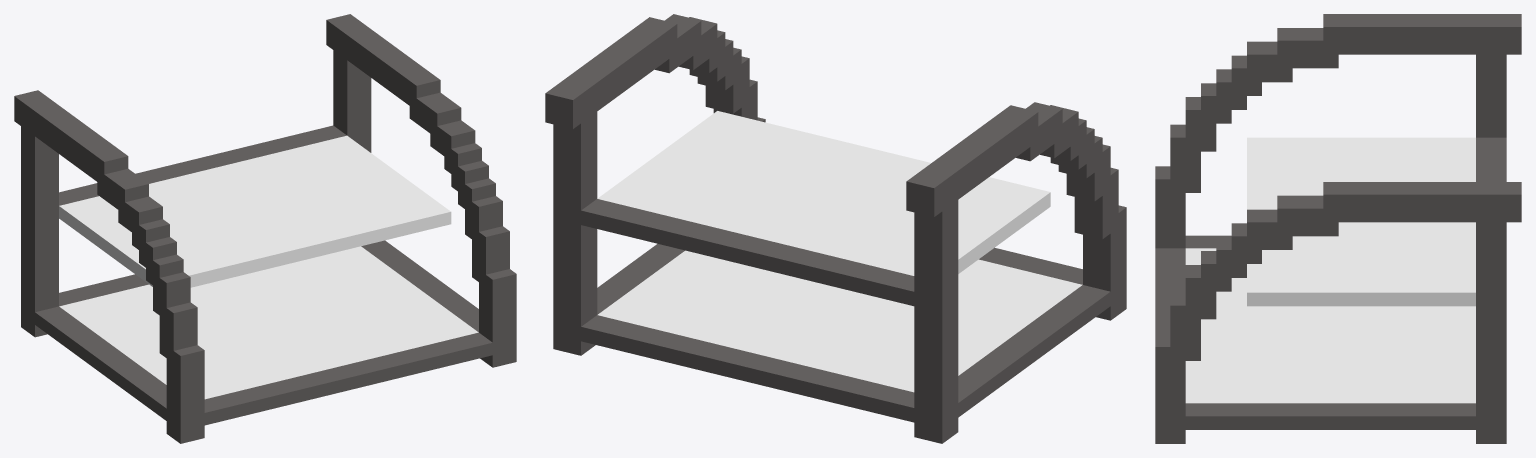
File: Bread Display strand_Empty.obj
3 views of the same model, side by side, from view 1: azimuth 30°, elevation 25°; view 2: azimuth 150°, elevation 25°; view 3: azimuth 270°, elevation 25° (orthographic). The views are drawn at different scales.
Bounding box in the file's own units: 2.8 × 1.8 × 2.4.
Materials: 1 (1 with a texture image).
